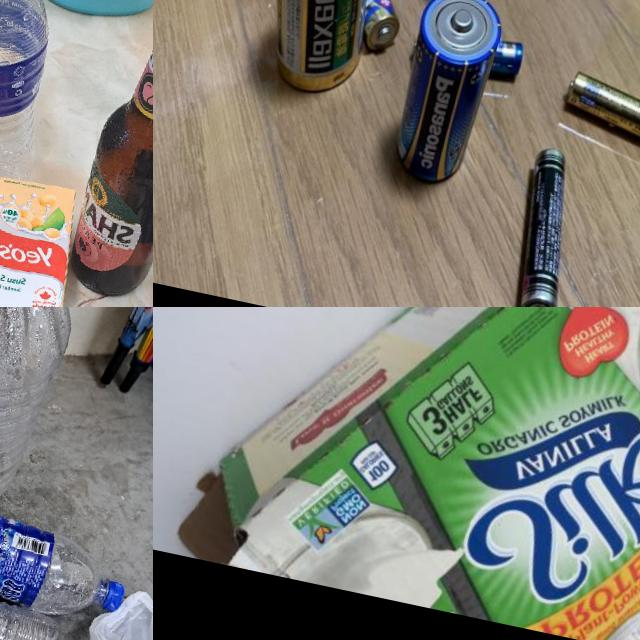bateria: (385, 0, 508, 186), (234, 0, 399, 102), (494, 144, 588, 307), (552, 65, 640, 160), (402, 25, 524, 81), (325, 0, 415, 57)
caixinha: (0, 175, 88, 307)
garrafa de vidro: (67, 0, 153, 307)
garrafa plástica: (0, 307, 87, 526), (0, 467, 117, 625), (0, 0, 62, 203), (0, 561, 66, 640)
papelão: (171, 307, 640, 640)
tampa plástica: (102, 580, 124, 614)
